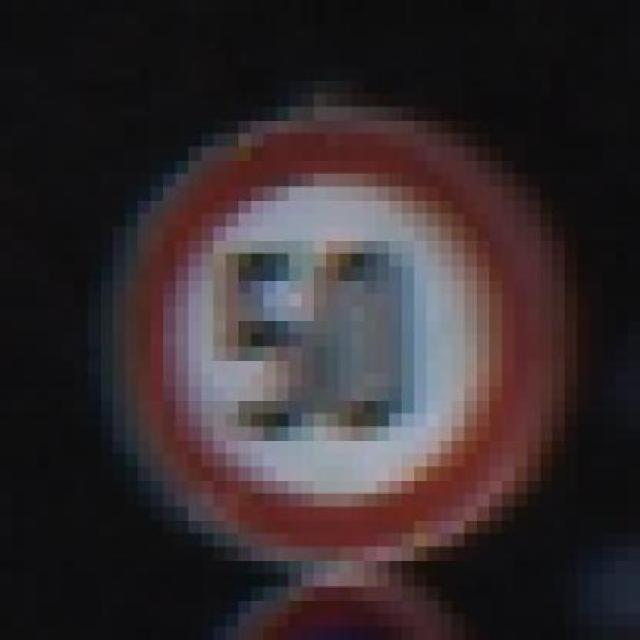50 mph speed limit: (125, 106, 578, 600)
